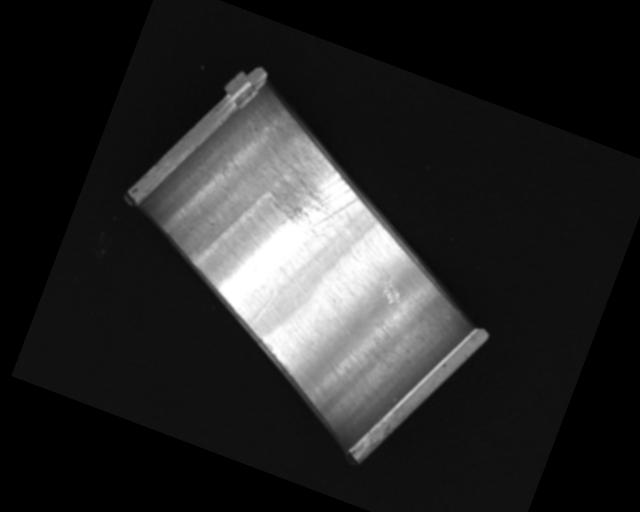bruise: (370, 275, 405, 307)
nick: (253, 287, 278, 328)
scratch: (252, 116, 378, 249)
